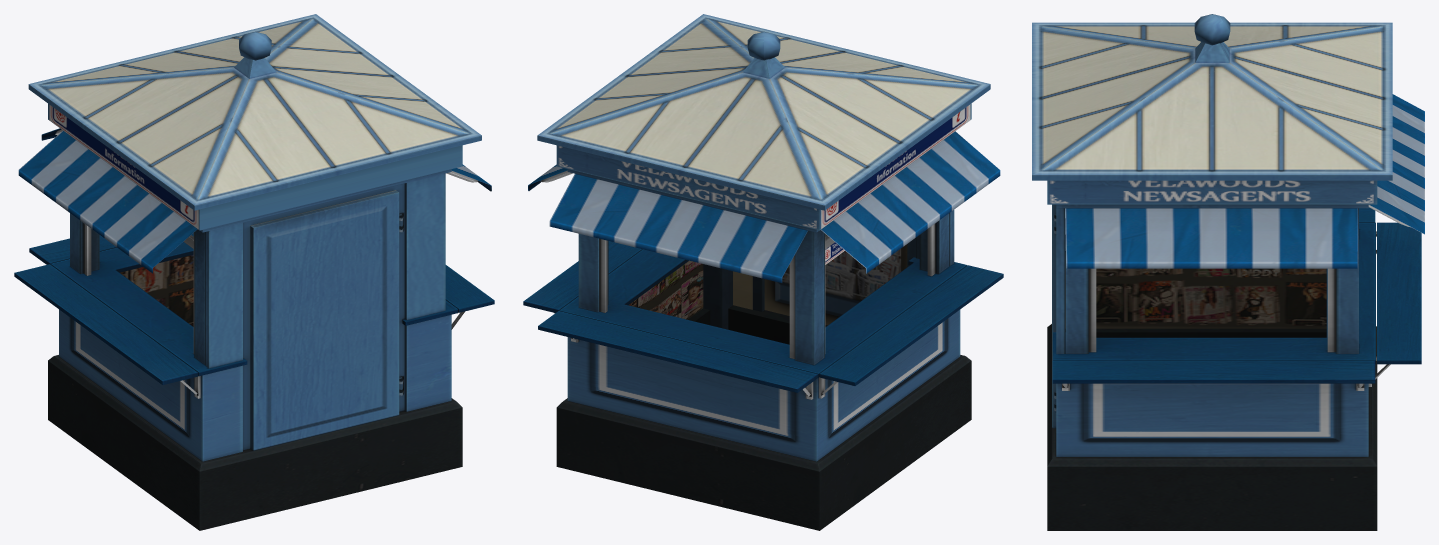
File: Kiosk_News_Info_OPT.fbx
3 renders of one model, left to right at view 1: azimuth 30°, elevation 25°; view 2: azimuth 150°, elevation 25°; view 3: azimuth 270°, elevation 25°, orthographic. The views are drawn at different scales.
Parts seen in each view (by area): view 1: polySurface419; view 2: polySurface419; view 3: polySurface419.
Part boxes in pixels (x1,y1,x2,y2): polySurface419: [14, 14, 494, 530]; polySurface419: [523, 14, 1003, 530]; polySurface419: [1032, 14, 1424, 530].
Bounding box in the file's own units: 266 × 309 × 246.
